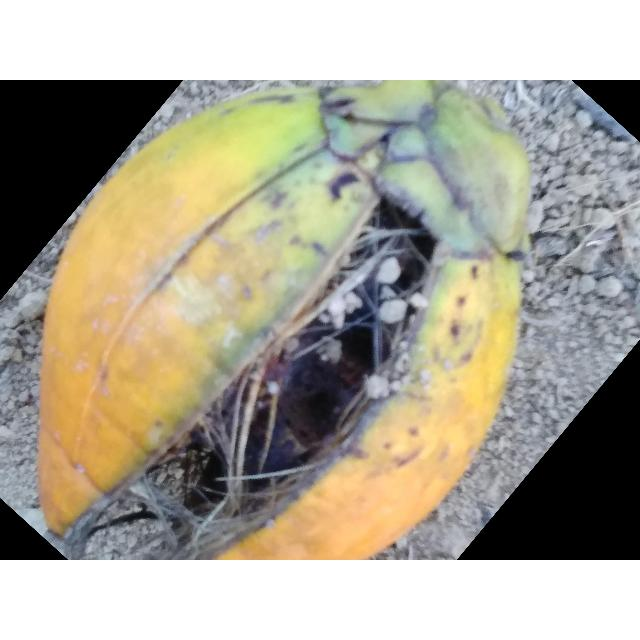damaged: (38, 80, 530, 560)
